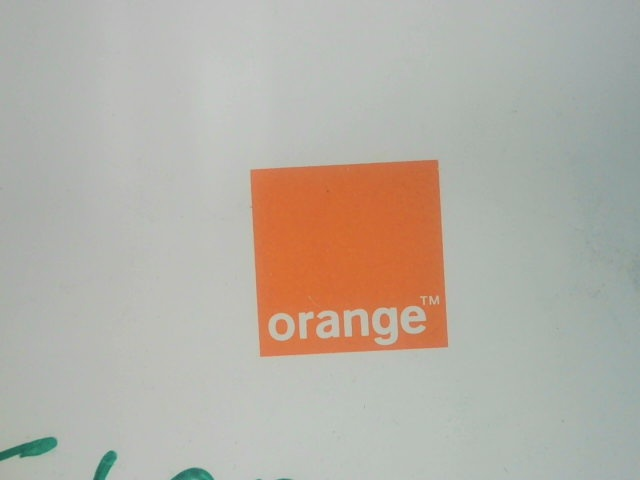AR_Orange: (241, 159, 455, 358)
